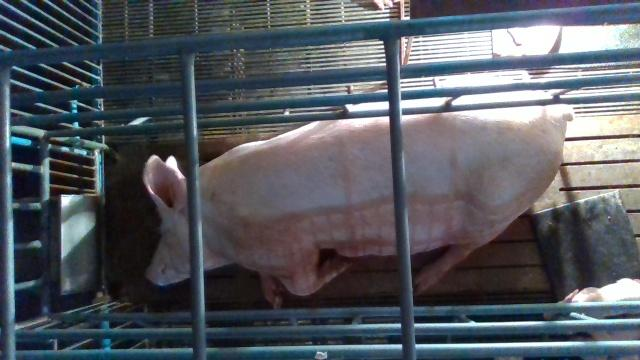piglet: (543, 278, 640, 319)
sow-sleep: (144, 89, 573, 310)
